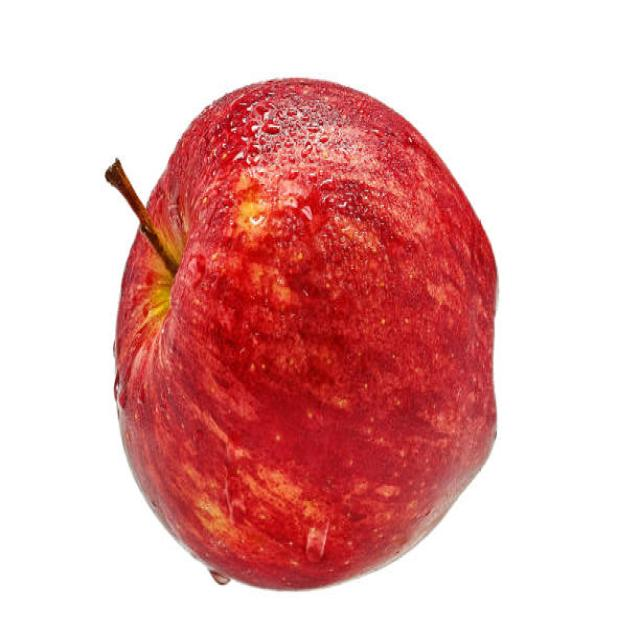Ripe: (105, 75, 503, 594)
